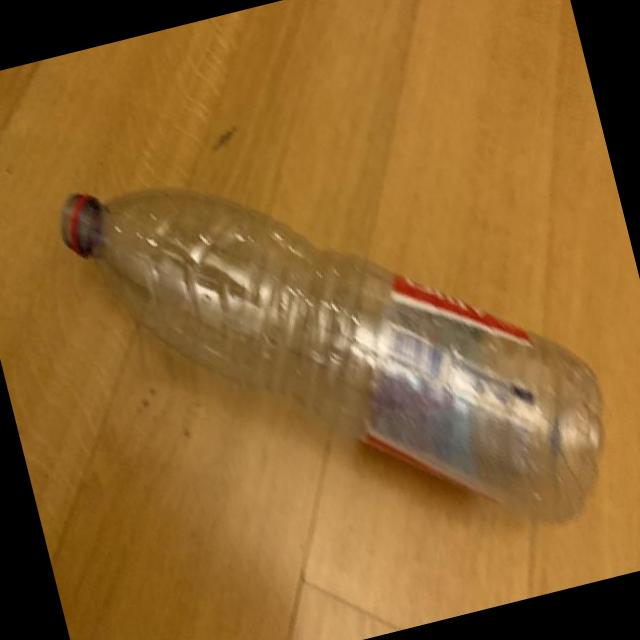plastic_bottle: (52, 81, 628, 622)
